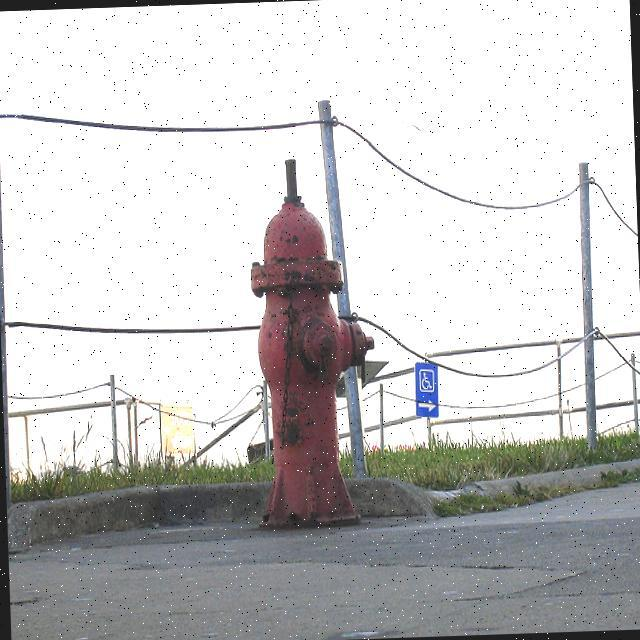fire_hydrant: (243, 156, 382, 526)
